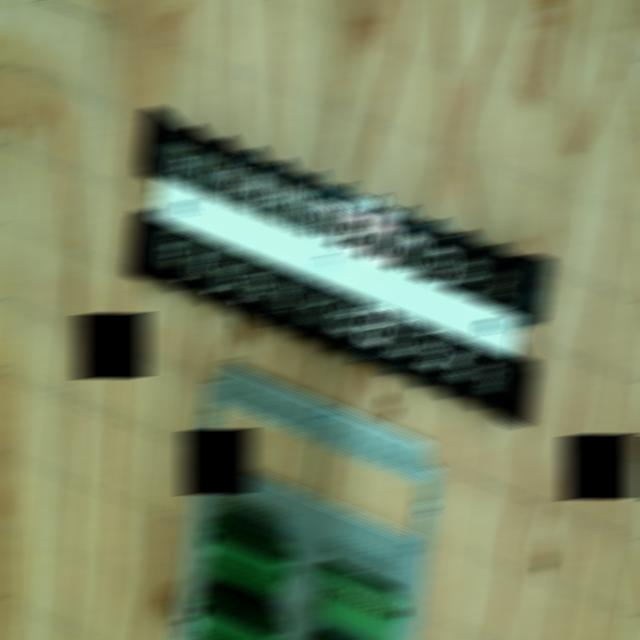Phillips_Block: (87, 106, 587, 426)
Terminal_2: (196, 520, 299, 598)
